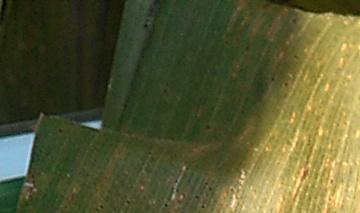tarspot: (280, 77, 291, 90), (190, 194, 205, 202), (197, 203, 212, 211), (268, 73, 277, 86), (207, 181, 214, 197), (140, 19, 151, 29), (123, 195, 133, 206), (162, 199, 171, 211), (204, 121, 212, 134), (55, 125, 64, 134), (97, 202, 106, 211)
